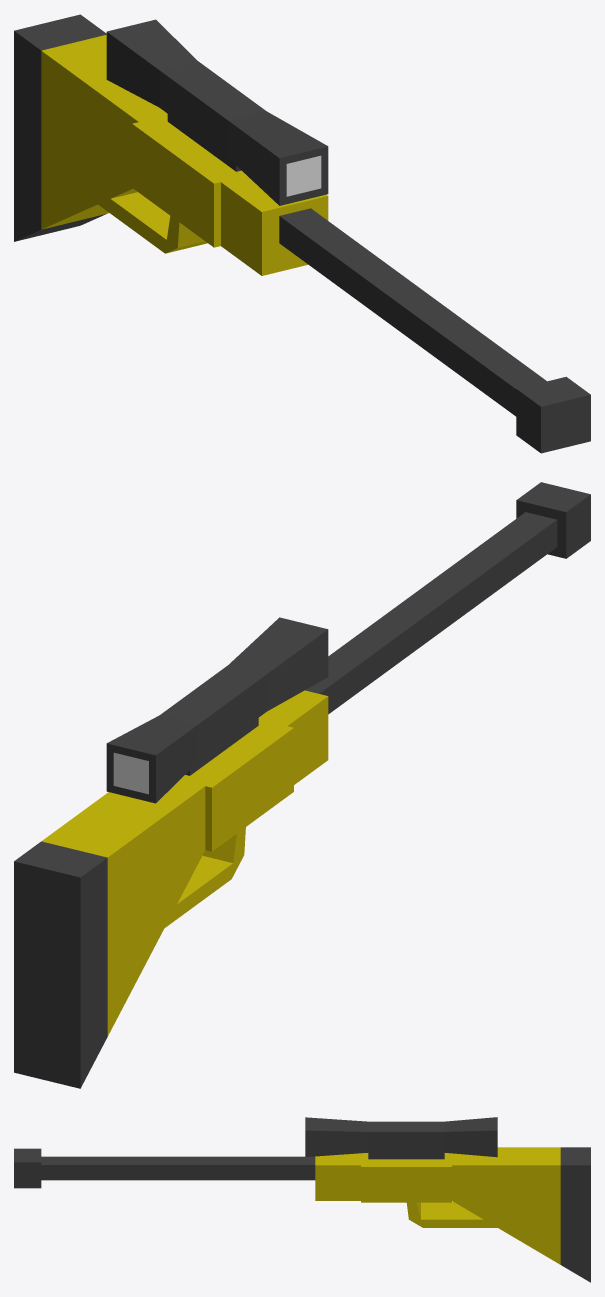
The model's file is sniper.fbx.
3 views of the same model, one above another, from view 1: azimuth 30°, elevation 25°; view 2: azimuth 150°, elevation 25°; view 3: azimuth 270°, elevation 25° (orthographic). The views are drawn at different scales.
Visible parts, largest first — view 1: Sniper; view 2: Sniper; view 3: Sniper.
Boxes of the visible parts, x1=… form: Sniper: x1=14, y1=14, x2=590, y2=453; Sniper: x1=14, y1=482, x2=590, y2=1088; Sniper: x1=14, y1=1117, x2=590, y2=1282.
Bounding box in the file's own units: 32.03 × 104 × 362.
